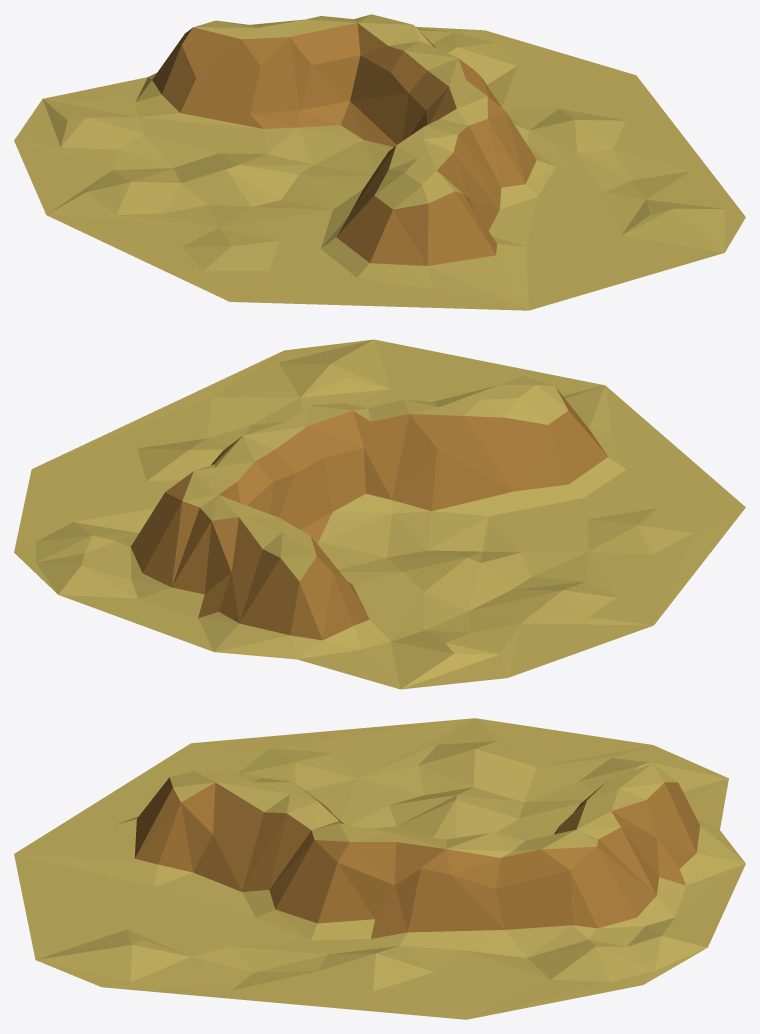
The model's file is Terrain_1b_Blender.fbx.
3 renders of one model, top to bottom at view 1: azimuth 30°, elevation 25°; view 2: azimuth 150°, elevation 25°; view 3: azimuth 270°, elevation 25°, orthographic. The views are drawn at different scales.
Parts seen in each view (by area): view 1: Terrain_1; view 2: Terrain_1; view 3: Terrain_1.
Part boxes in pixels (x1,y1,x2,y2): Terrain_1: (14,14,745,310); Terrain_1: (14,339,745,689); Terrain_1: (14,718,745,1019).
Size of the model in its own units: 2205 by 277 by 2262.
